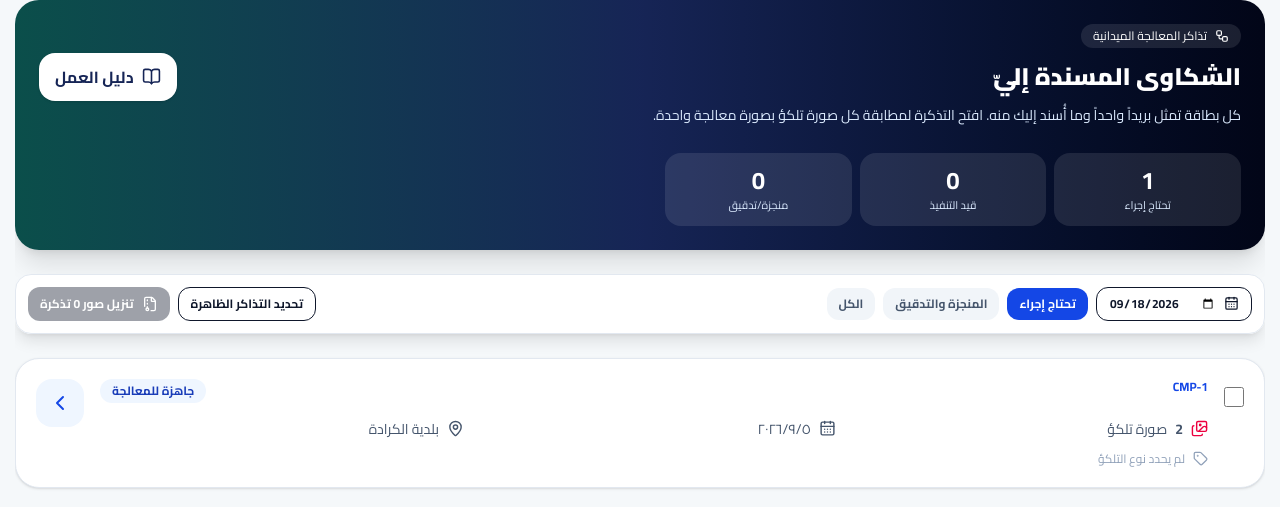
it: أتمتة فرز وإسناد الشكاوى على دفعات › يمكّن مسؤول القسم من تحديد عدة تذاكر وتنزيل صور قبل في ZIP واحد
Click the button "تحديد التذاكر الظاهرة".
click(247, 304)  # box [178, 286, 316, 320]
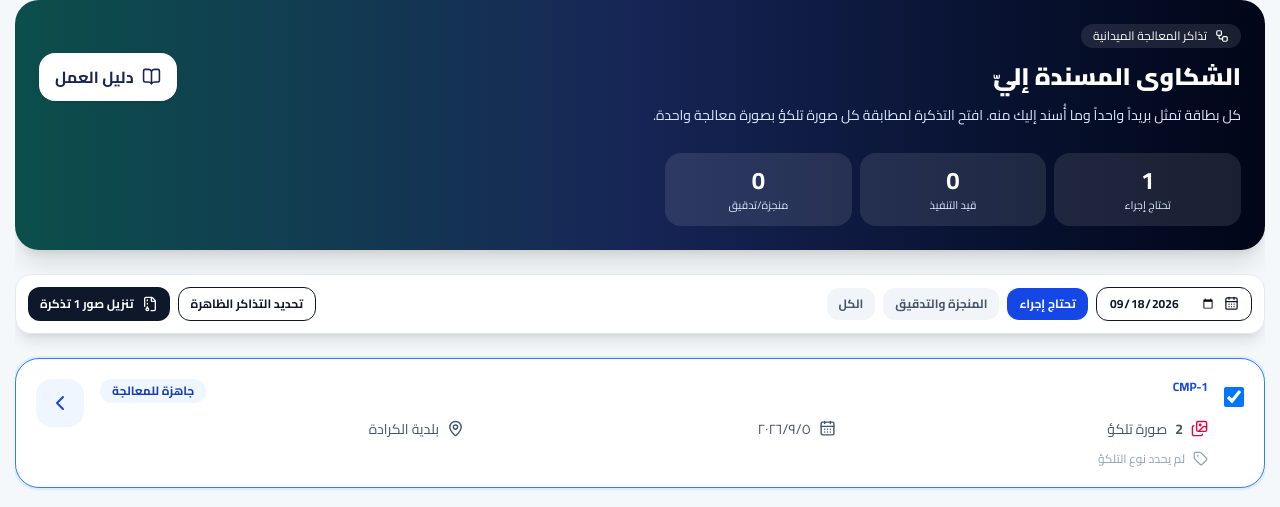
Expected: the button "تنزيل صور 1 تذكرة" is enabled, [28, 286, 170, 320]
